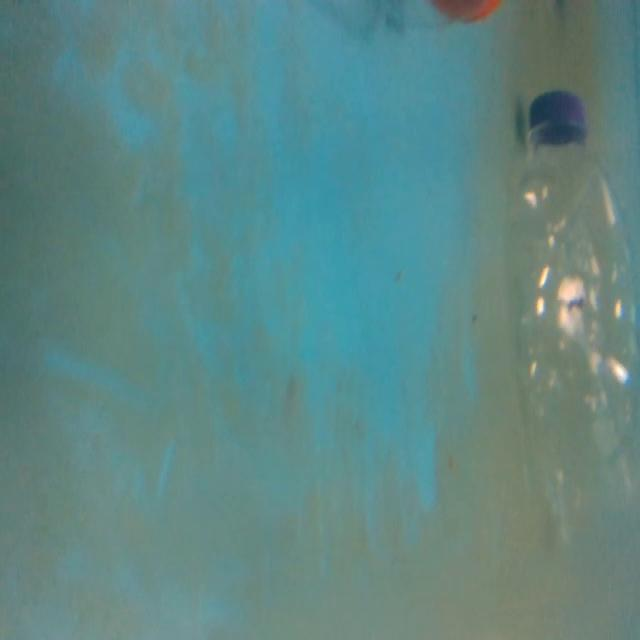plastic bottle: (498, 78, 640, 548)
